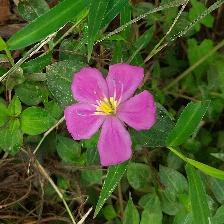malabar melastome: (64, 62, 159, 169)
